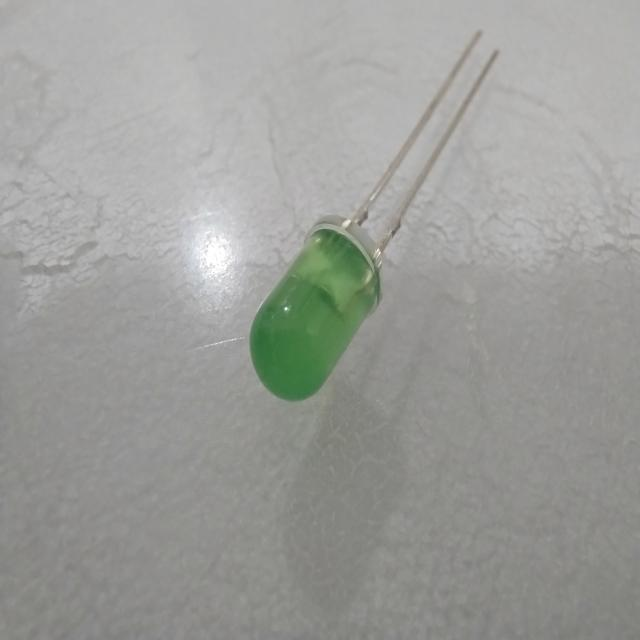green_led: (242, 204, 387, 422)
